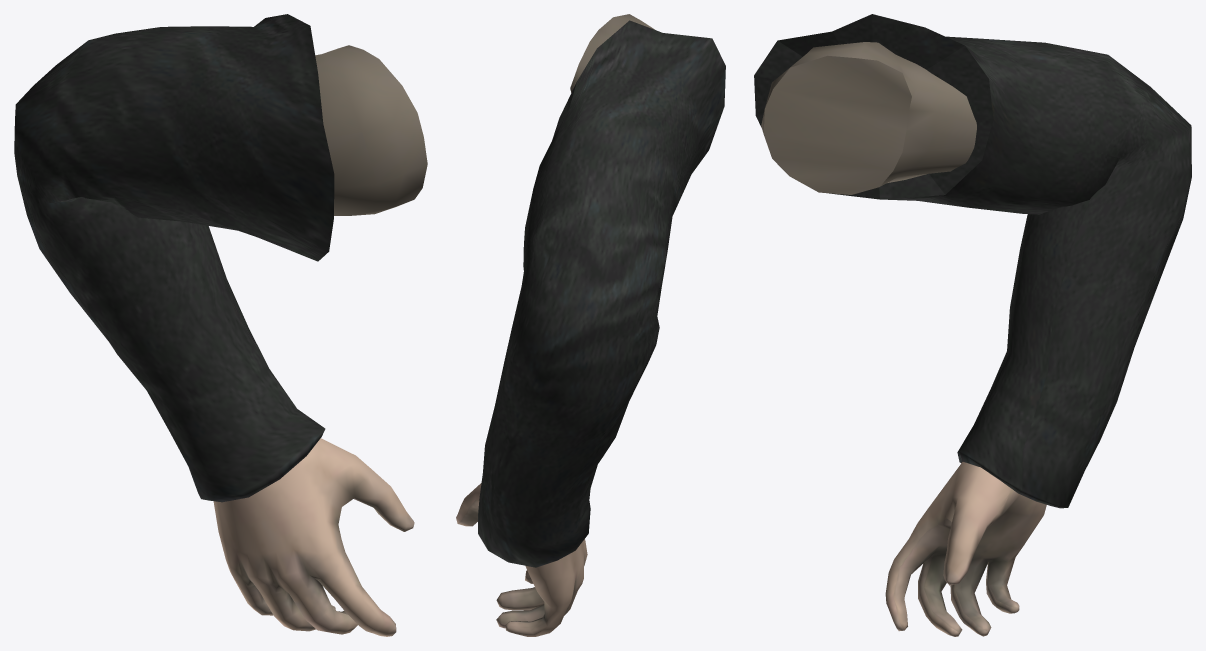
File: dest_nt_nuked_male_03_arm_right_LOD0.obj
3 renders of one model, left to right at view 1: azimuth 30°, elevation 25°; view 2: azimuth 150°, elevation 25°; view 3: azimuth 270°, elevation 25°, orthographic. The views are drawn at different scales.
Visible parts, largest first — view 1: mtl_nt_2020_manne_male01_jacket1, mtl_nt_2020_manne_male01_head1; view 2: mtl_nt_2020_manne_male01_jacket1, mtl_nt_2020_manne_male01_head1; view 3: mtl_nt_2020_manne_male01_jacket1, mtl_nt_2020_manne_male01_head1.
Boxes of the visible parts, bbox=[...] form: mtl_nt_2020_manne_male01_jacket1: bbox=[14, 14, 334, 502]; mtl_nt_2020_manne_male01_head1: bbox=[213, 45, 427, 636]; mtl_nt_2020_manne_male01_jacket1: bbox=[478, 20, 725, 567]; mtl_nt_2020_manne_male01_head1: bbox=[456, 14, 654, 636]; mtl_nt_2020_manne_male01_jacket1: bbox=[754, 14, 1191, 508]; mtl_nt_2020_manne_male01_head1: bbox=[761, 42, 1046, 636].
Size of the model in its own units: 25.88 by 53.26 by 35.99.
